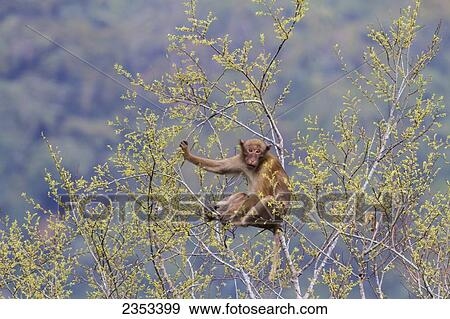monkey: (176, 135, 294, 233)
